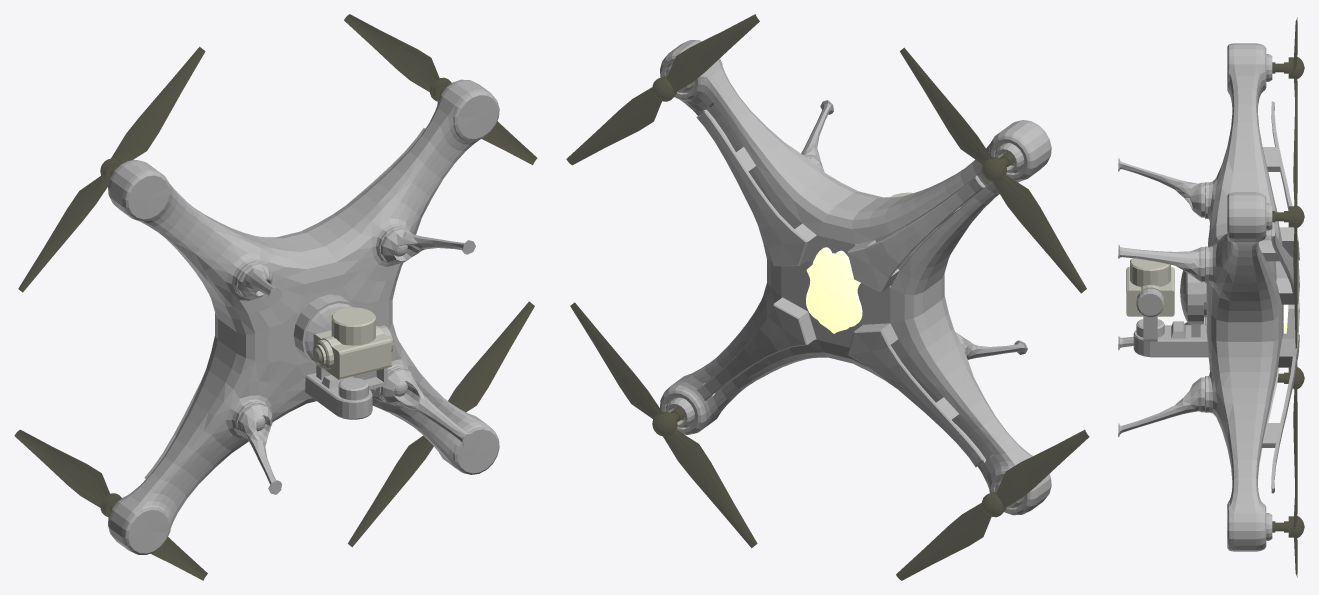
File: drone.glb
3 renders of one model, left to right at view 1: azimuth 30°, elevation 25°; view 2: azimuth 150°, elevation 25°; view 3: azimuth 270°, elevation 25°, orthographic. The views are drawn at different scales.
Visible parts, largest first — view 1: Body, FR_Propeller, BL_Propeller, Camera_01 - Default_0, BR_Propeller, FL_Propeller; view 2: Body, BL_Propeller, FR_Propeller, FL_Propeller, BR_Propeller, ProfessionalAssets_Badge; view 3: Body, Camera_01 - Default_0, FL_Propeller, BL_Propeller, BR_Propeller, FR_Propeller.
Part boxes in pixels (<box>): Body: <box>108,79,499,554</box>; FR_Propeller: <box>18,46,205,292</box>; BL_Propeller: <box>348,301,534,547</box>; Camera_01 - Default_0: <box>312,307,391,379</box>; BR_Propeller: <box>14,429,207,580</box>; FL_Propeller: <box>344,14,537,165</box>; Body: <box>660,40,1051,515</box>; BL_Propeller: <box>570,302,757,548</box>; FR_Propeller: <box>900,47,1086,293</box>; FL_Propeller: <box>566,14,759,165</box>; BR_Propeller: <box>896,429,1089,580</box>; ProfessionalAssets_Badge: <box>806,247,862,333</box>; Body: <box>1118,43,1299,551</box>; Camera_01 - Default_0: <box>1126,258,1174,316</box>; FL_Propeller: <box>1272,85,1304,348</box>; BL_Propeller: <box>1272,476,1304,577</box>; BR_Propeller: <box>1277,362,1304,490</box>; FR_Propeller: <box>1272,17,1304,102</box>.
Size of the model in its own units: 1.48 by 1.45 by 0.4924.
